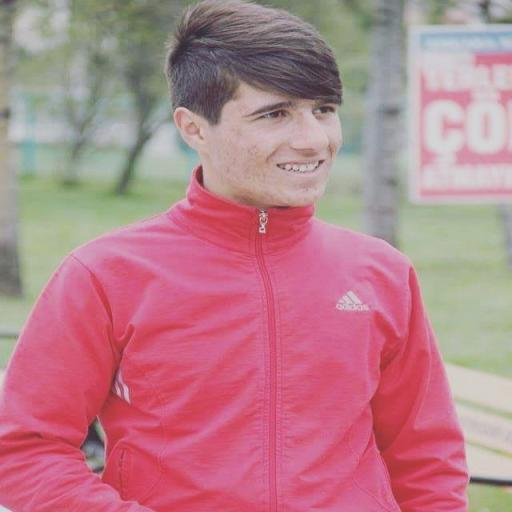Adidas: (331, 287, 373, 313)
